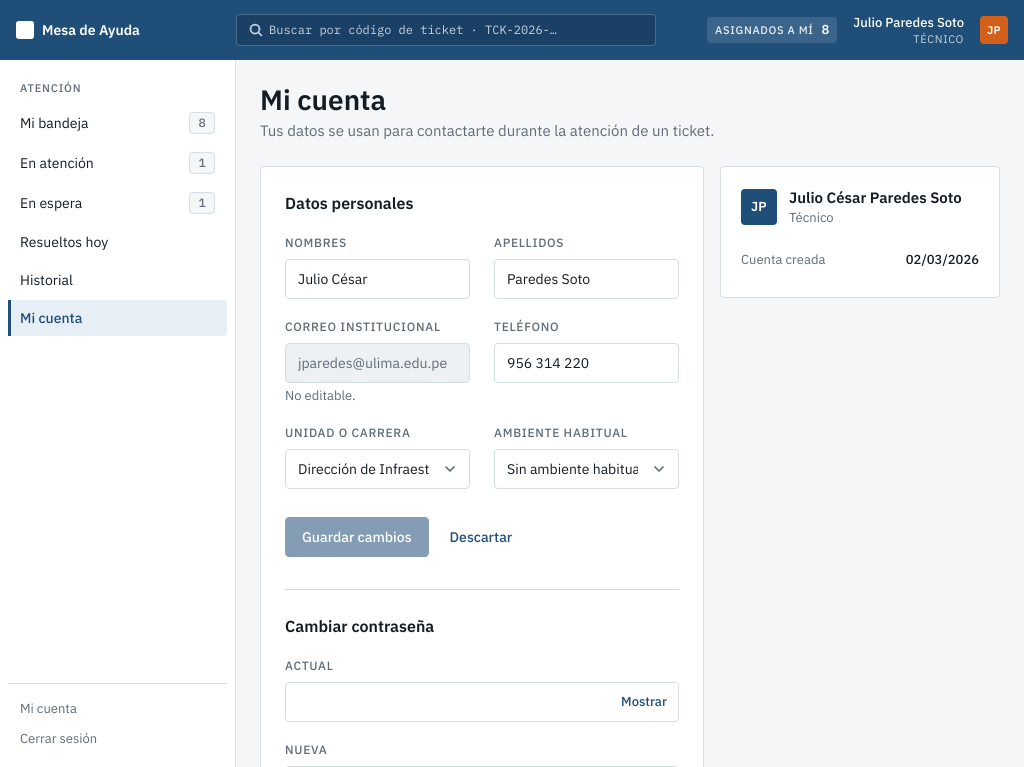
it: AccountPage · cambiar contraseña › el técnico también cambia su contraseña desde Mi cuenta
expect the form named "Datos personales" is shown: met, box [285,235,679,557]
expect the text "Asignados a mí" is shown: met, box [715,22,814,38]
Type "Tecnico2026" into the password field labelled "Actual".
click(482, 702); type("Tecnico2026")  # box [285,682,679,722]
(page scrolled)
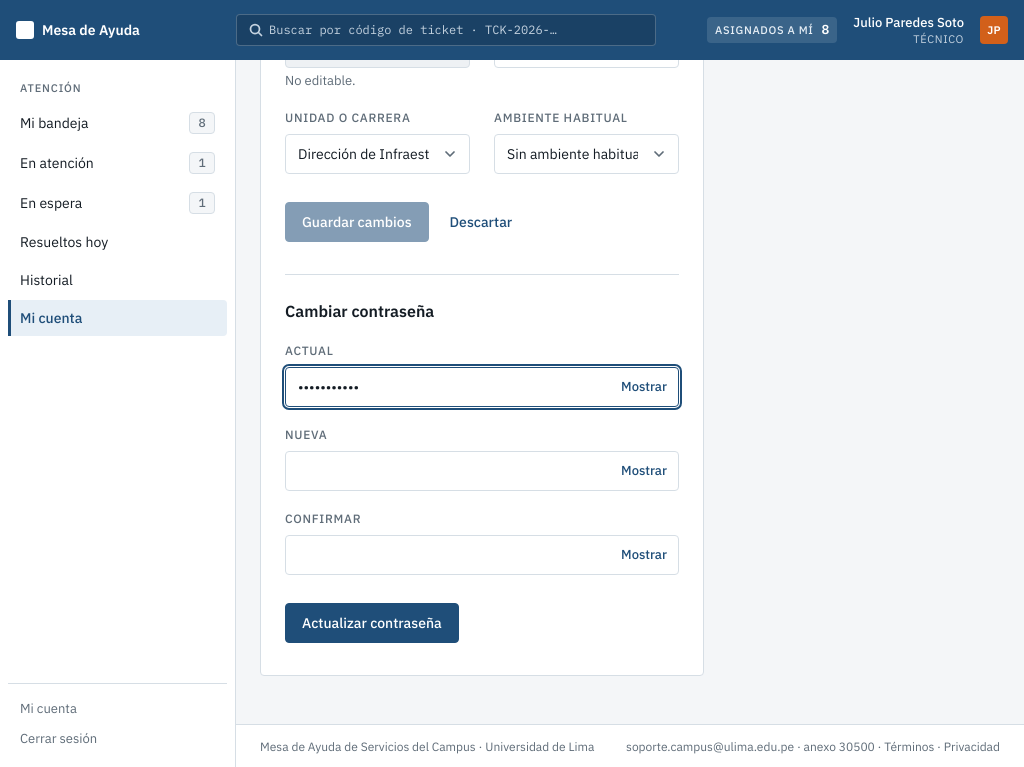
Type "Campus2027!" into the password field labelled "Nueva".
click(482, 471); type("Campus2027!")  # box [285,451,679,491]
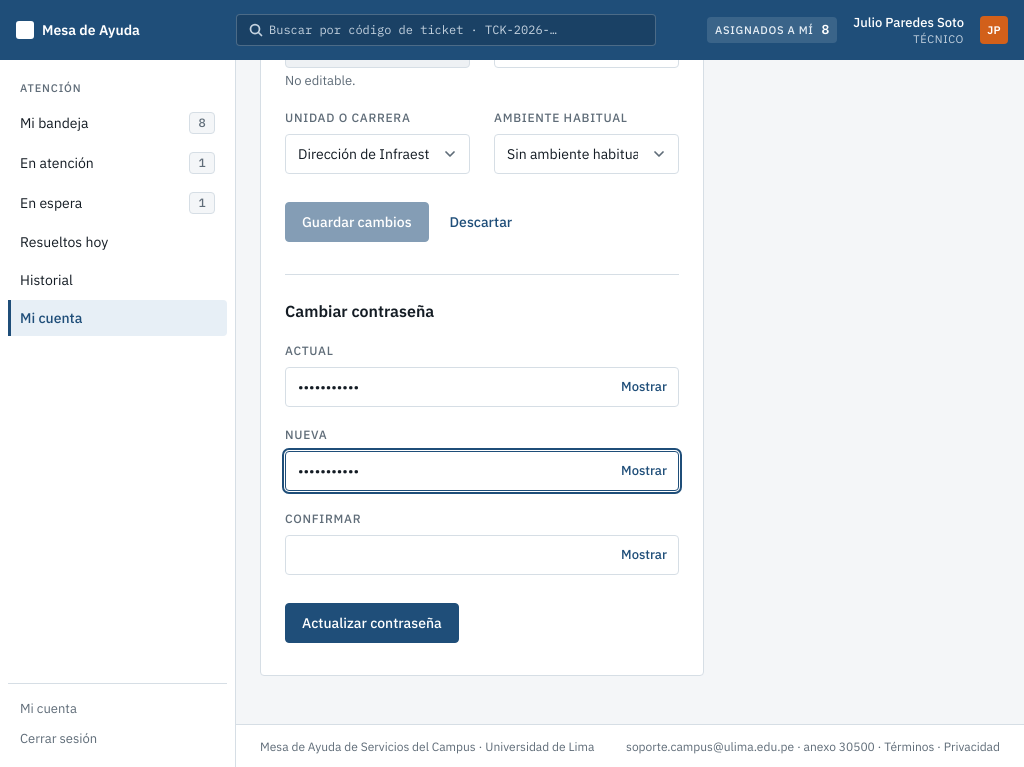
Type "Campus2027!" into the password field labelled "Confirmar".
click(482, 555); type("Campus2027!")  # box [285,535,679,575]
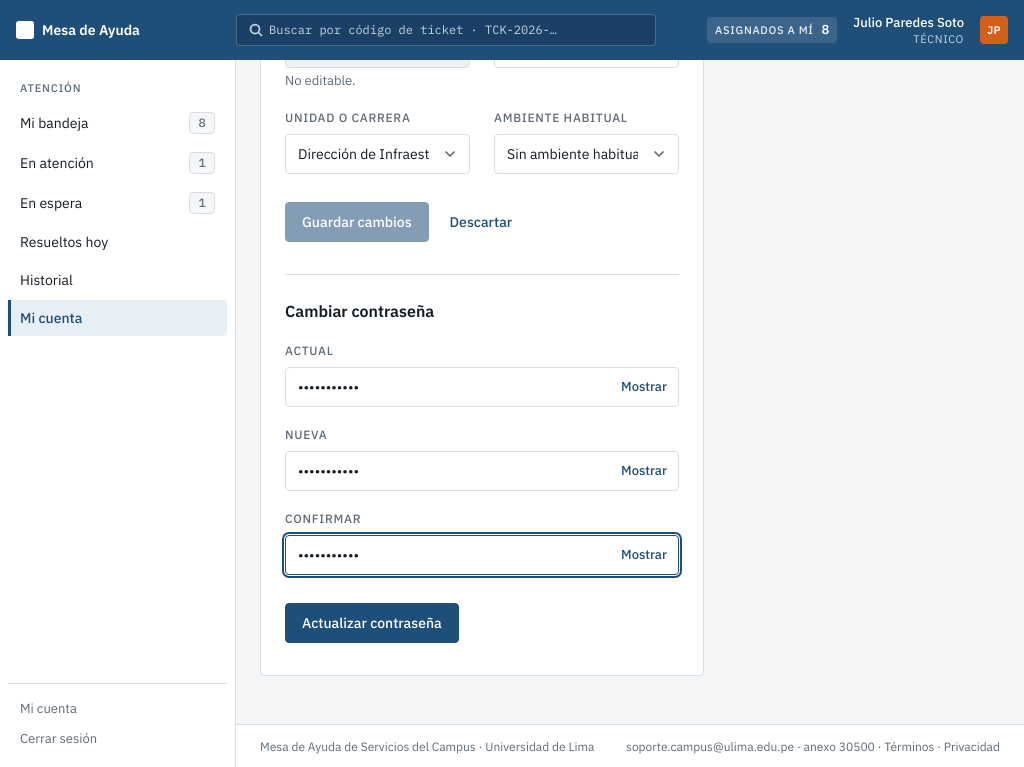
Click the button "Actualizar contraseña".
click(372, 623)  # box [285,603,459,643]
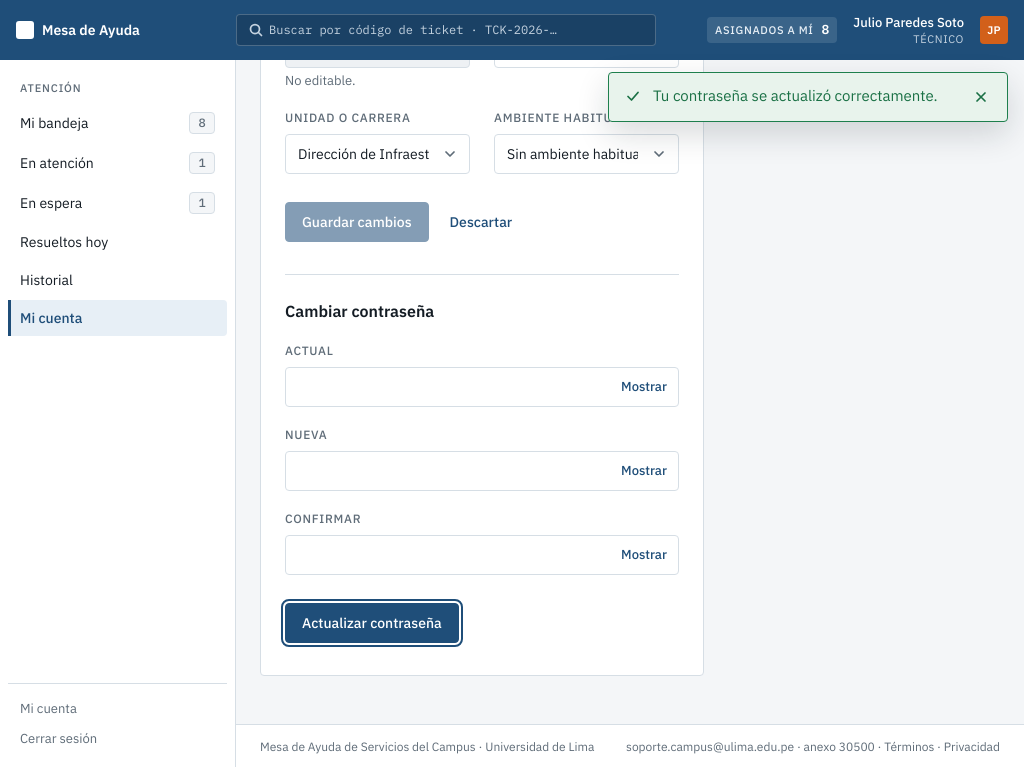
expect the text "Tu contraseña se actualizó correctamente." is shown: met, box [653,85,955,107]
